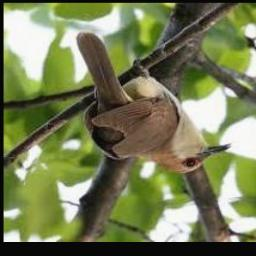Cuckoo: (77, 32, 230, 175)
